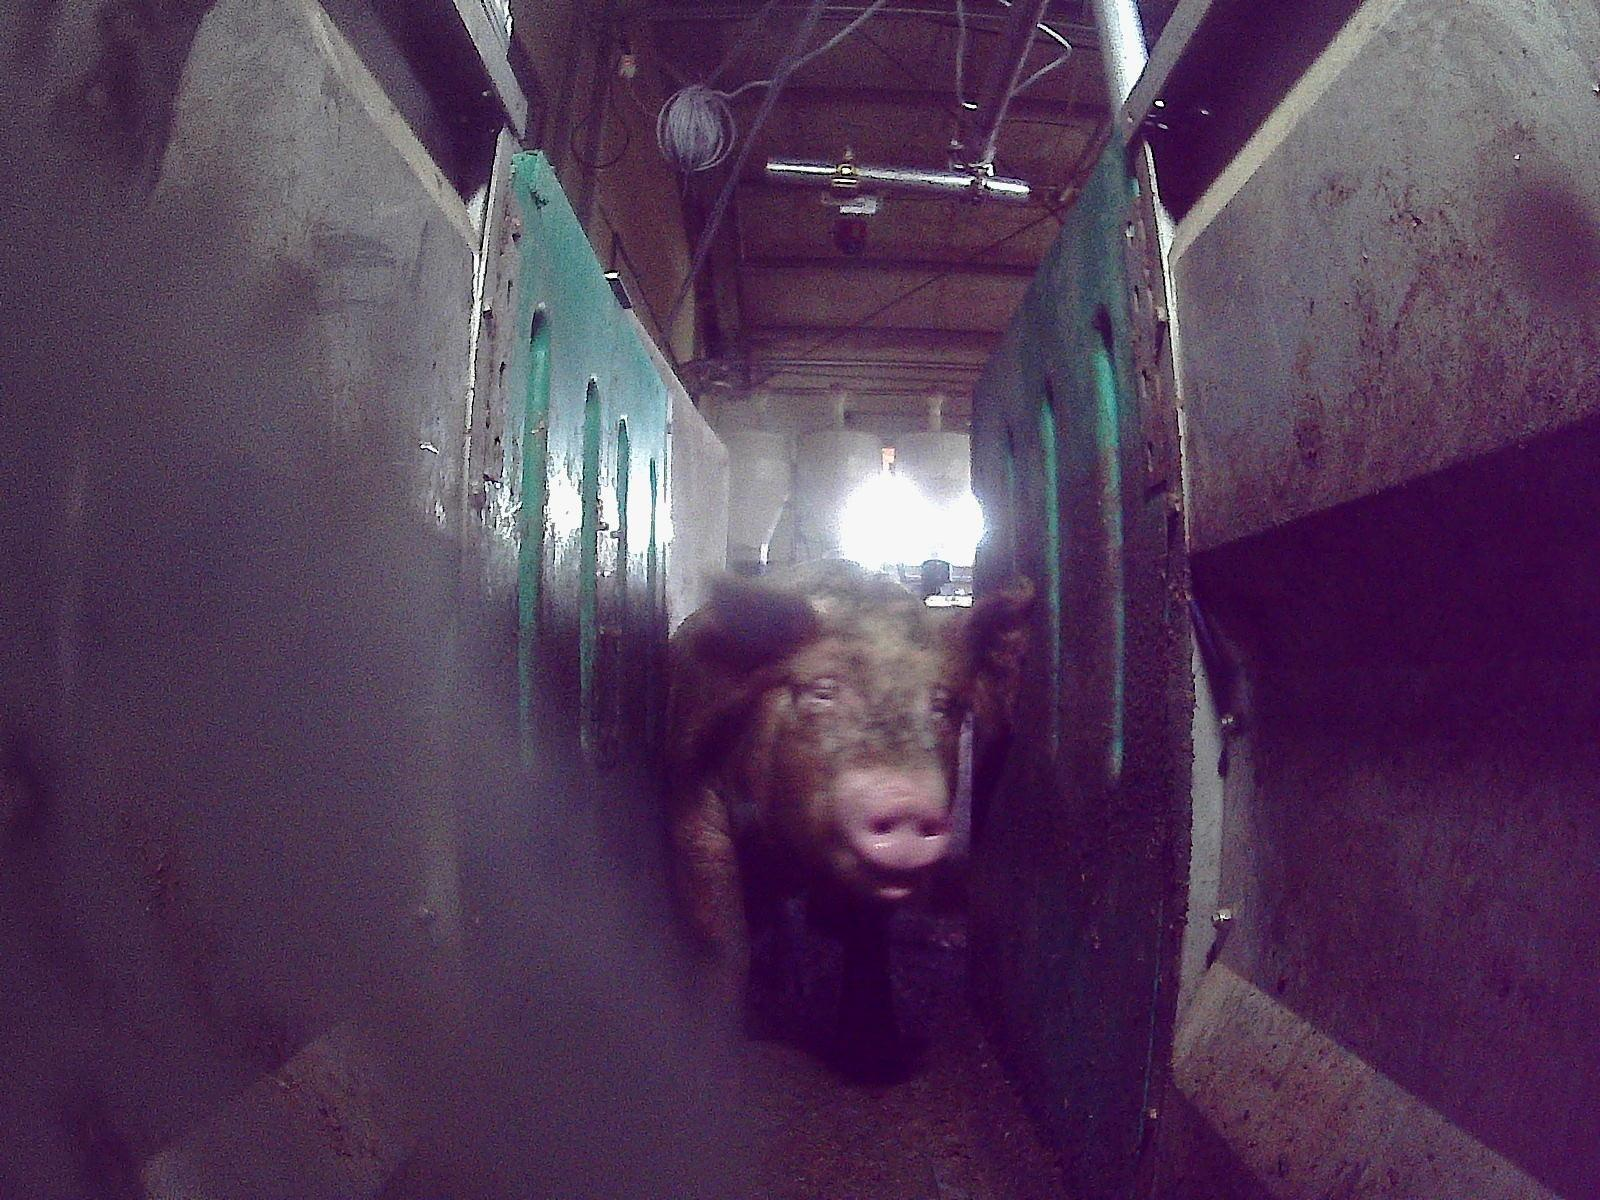Face: (757, 582, 954, 897)
